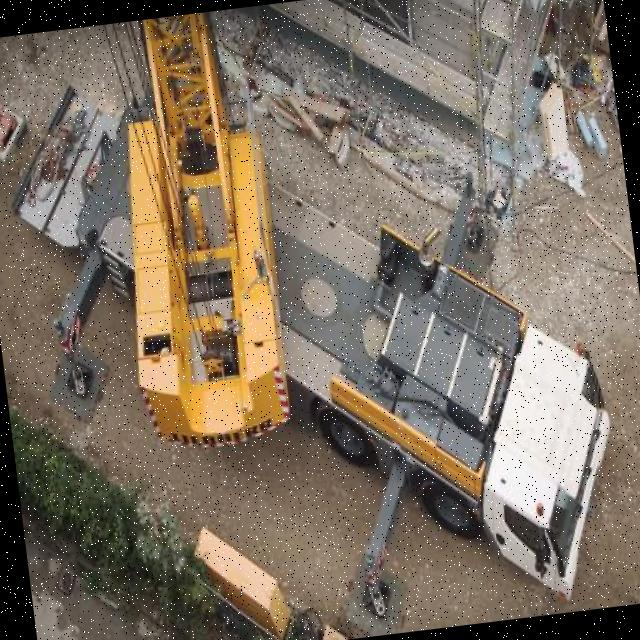Mobile Crane: (4, 0, 629, 640)
